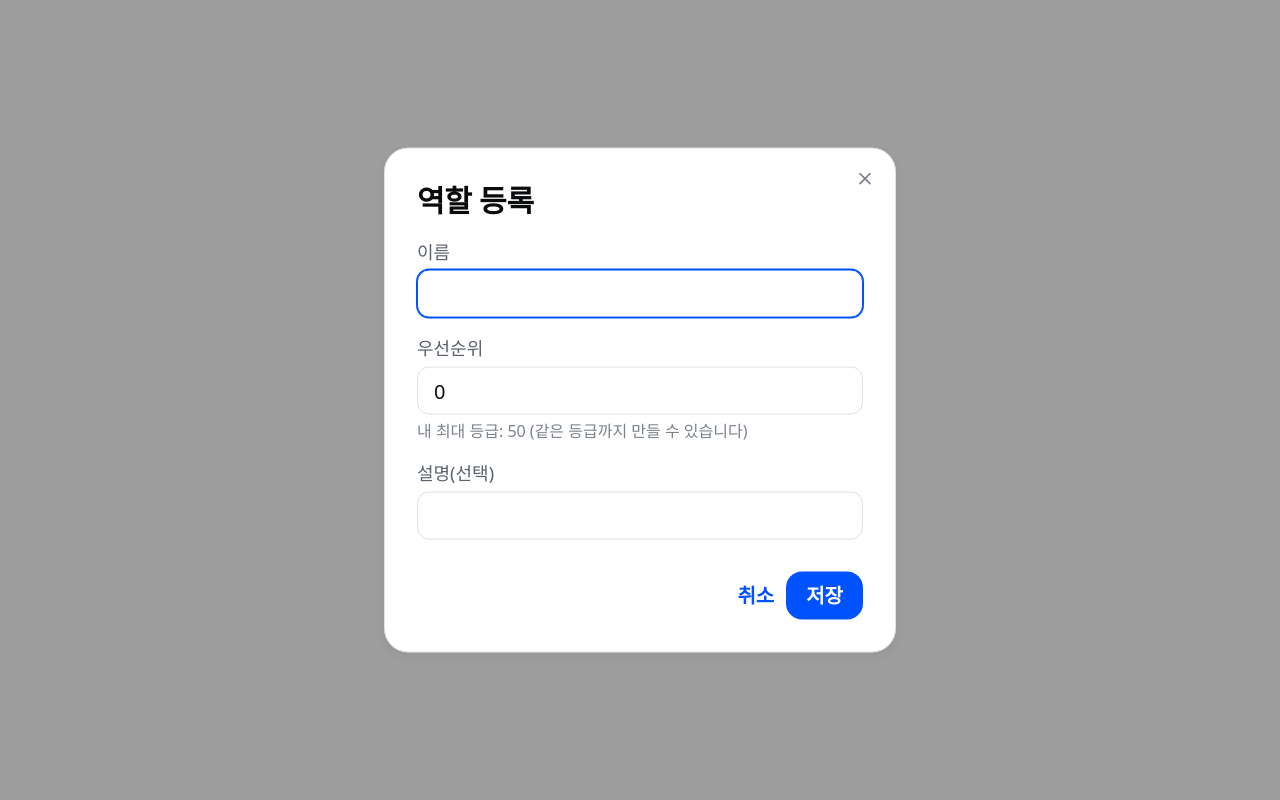
Test case: RoleFormDialog › 등록: priority가 내 등급(50) 초과면 차단
Type "상위" into the field labelled "이름".
click(640, 294); type("상위")  # box [417,270,863,318]
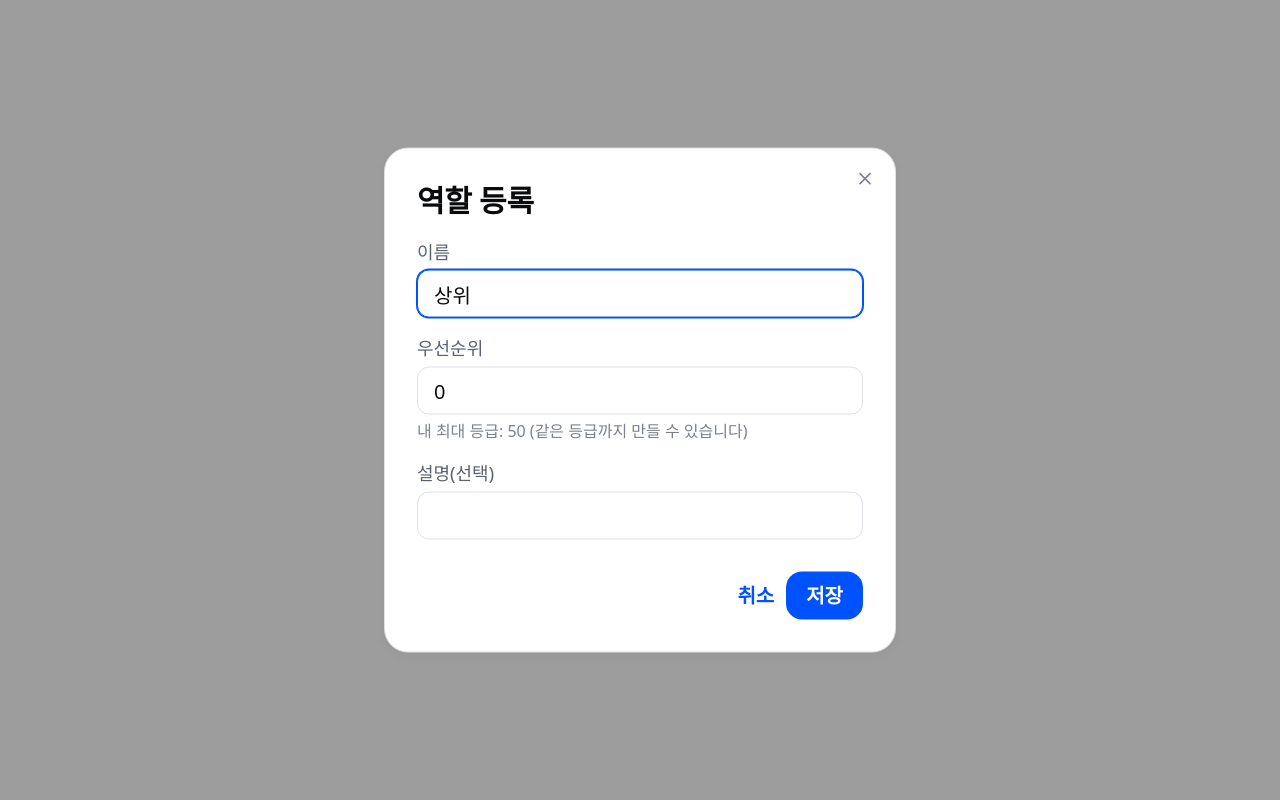
Replace the text in the number field labelled "우선순위" with "60" at (640, 391), box [417,367,863,415]
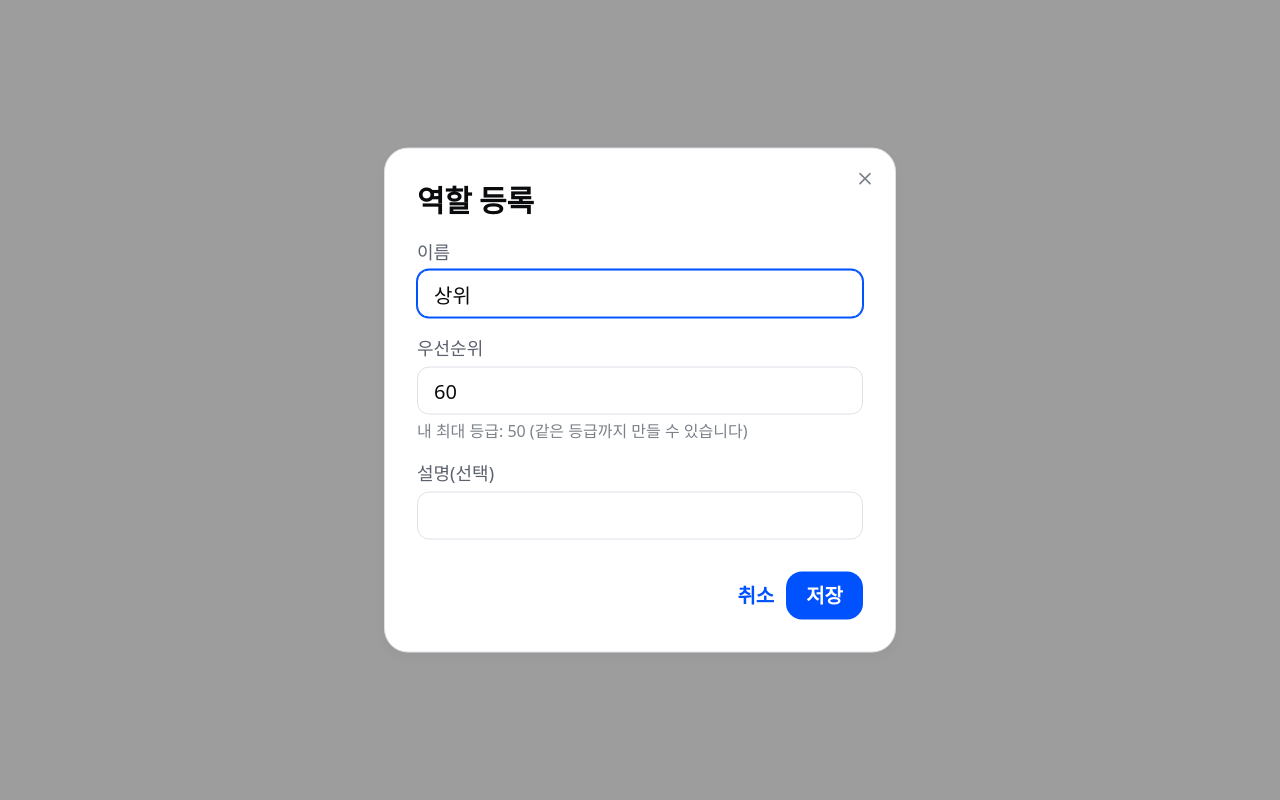
Click the button "저장".
click(825, 595)  # box [786,571,863,619]
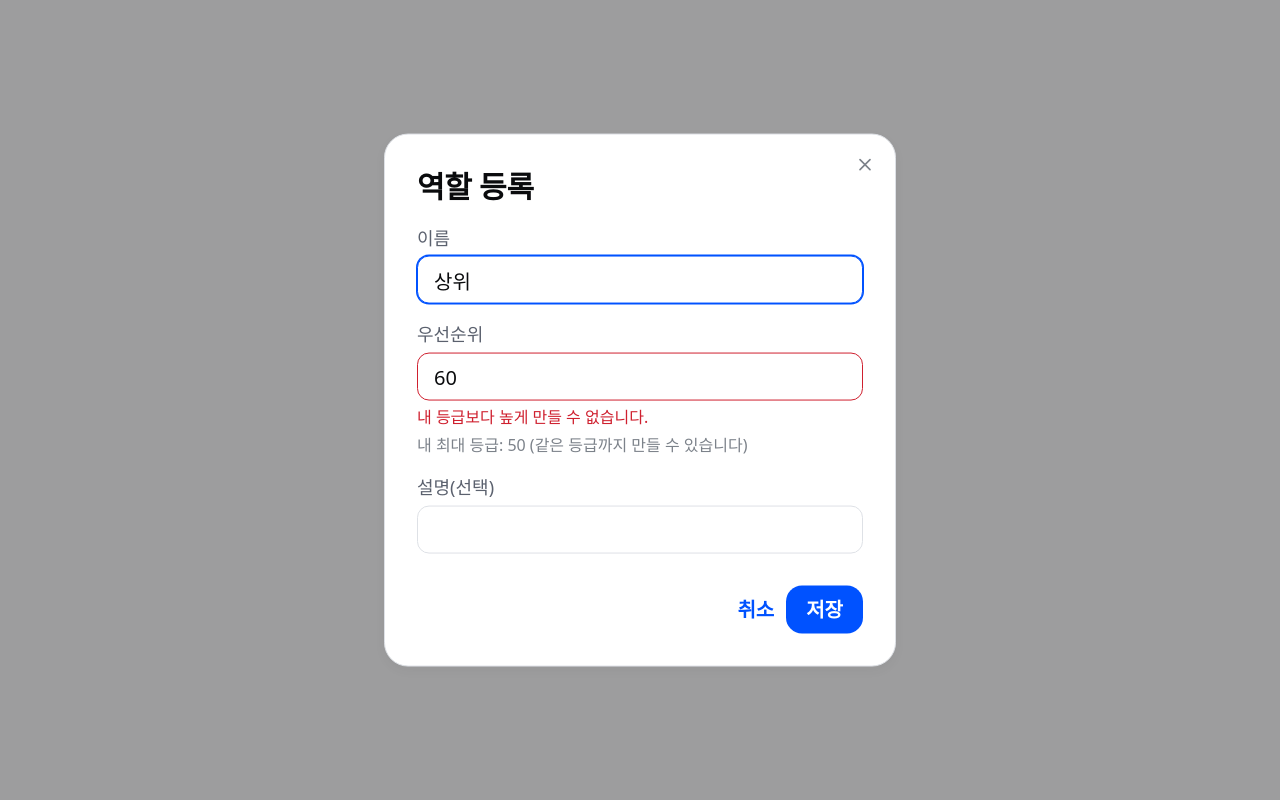
Expected: the text "내 등급보다 높게 만들 수 없습니다." is shown, [417,406,648,428]
